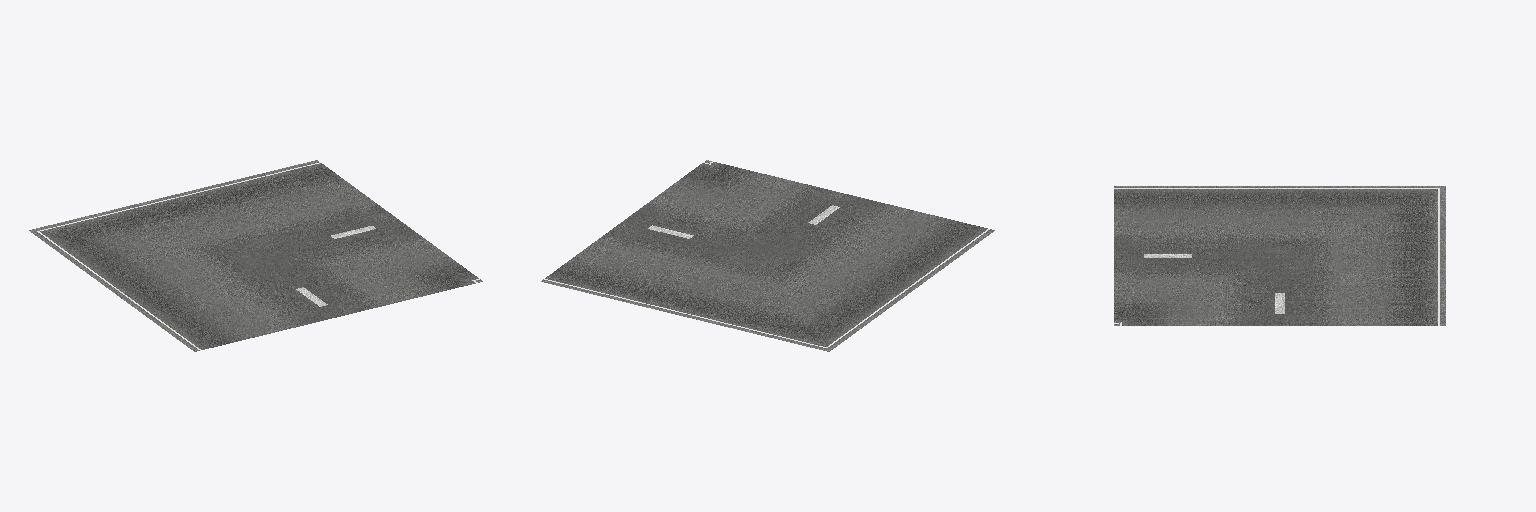
3 renders of one model, left to right at view 1: azimuth 30°, elevation 25°; view 2: azimuth 150°, elevation 25°; view 3: azimuth 270°, elevation 25°, orthographic.
Visible parts, largest first — view 1: pPlane1; view 2: pPlane1; view 3: pPlane1.
Part boxes in pixels (x1,y1,x2,y2): pPlane1: (29, 160, 482, 351); pPlane1: (541, 160, 994, 351); pPlane1: (1114, 186, 1445, 325).
Bounding box in the file's own units: 12.07 × 0 × 12.03.
Materials: 1 (1 with a texture image).